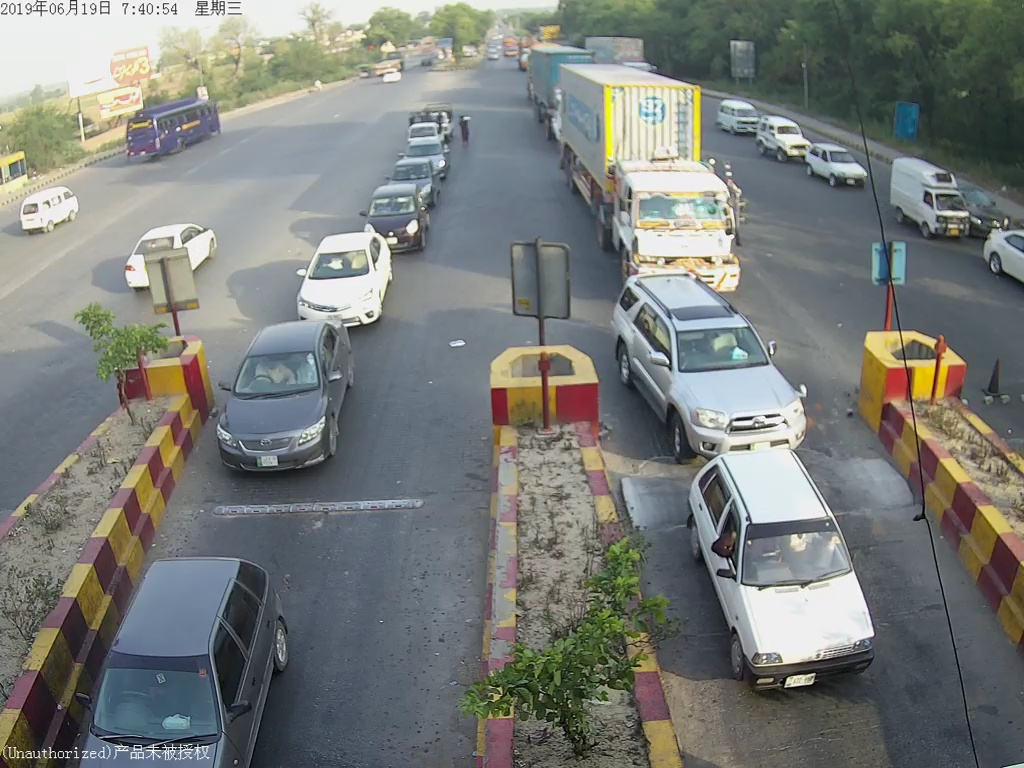Cat-1: (690, 454, 885, 680), (616, 278, 823, 453), (214, 325, 360, 468), (300, 229, 389, 320), (368, 192, 424, 244)
Cat-5: (567, 66, 755, 270)
